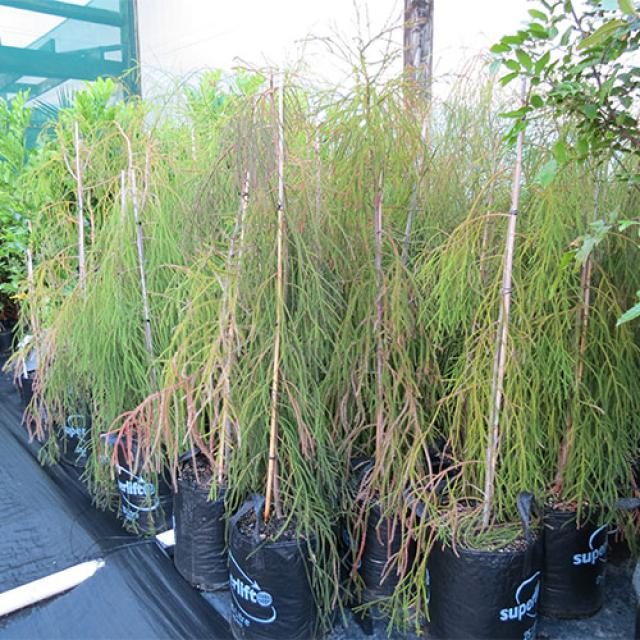Rimu: (344, 82, 446, 556), (444, 70, 536, 543), (250, 65, 338, 550), (170, 89, 267, 474), (105, 115, 204, 454), (543, 157, 617, 567), (55, 135, 162, 412)
